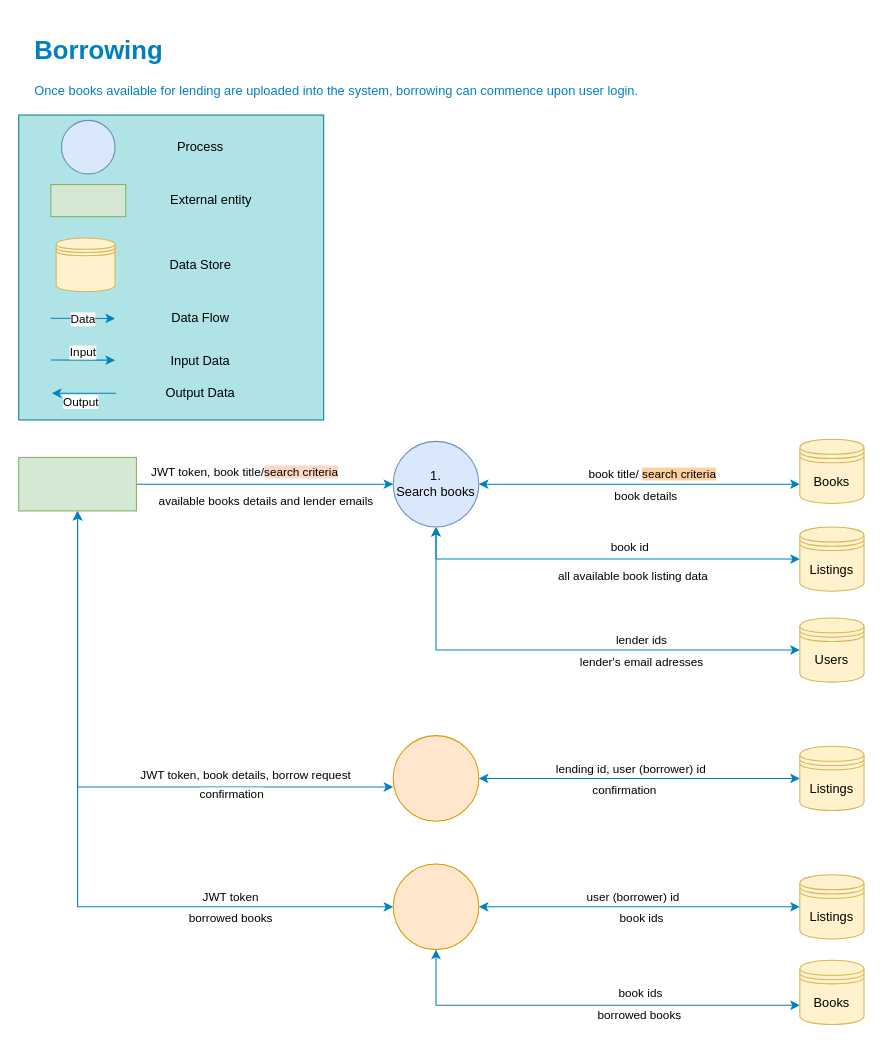
Some shapes in this 893 by 1043 pixel diagram are drawn without their labels. Here are the shapes that lost their labels. From the top down, the centre of each, then its label:
At (77,483): "User".
At (435,778): "2. Borrow book".
At (435,906): "2. List borrowed books".
